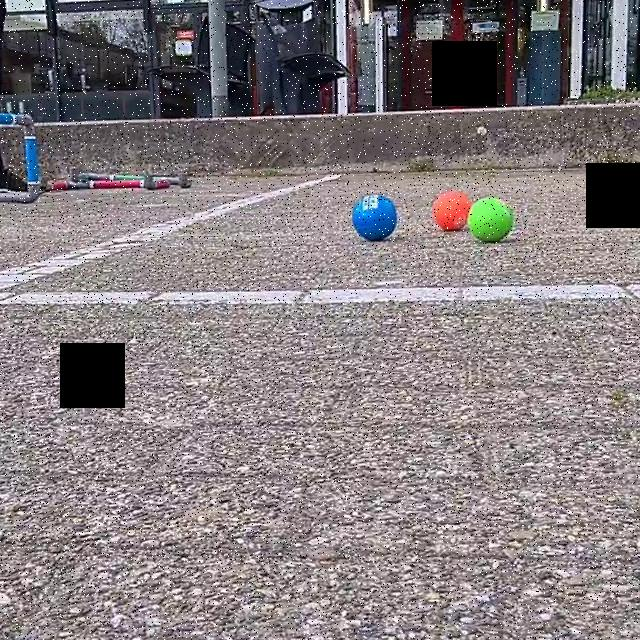ball: (349, 189, 402, 243), (468, 194, 516, 249), (429, 185, 472, 233)
